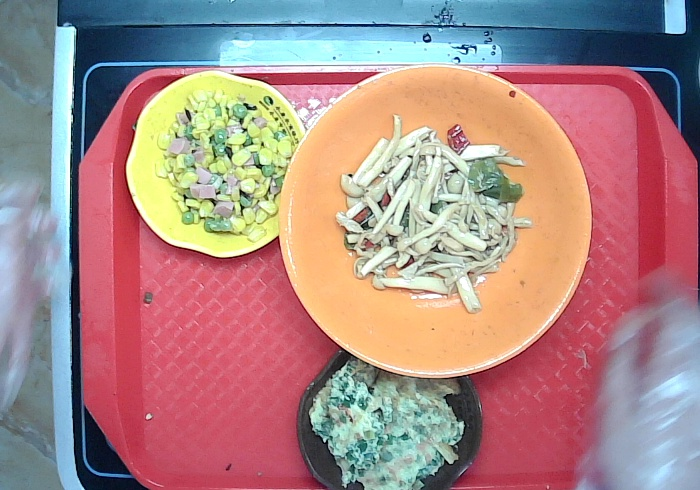YKMZ-Huang_Se_Ao_Bian_Wan: (118, 65, 313, 266)
YKMZ-Ju_Se_Tang_Wan: (271, 55, 605, 382)
YKMZ-Ka_Fei_Ao_Bian_Wan: (287, 341, 495, 490)
